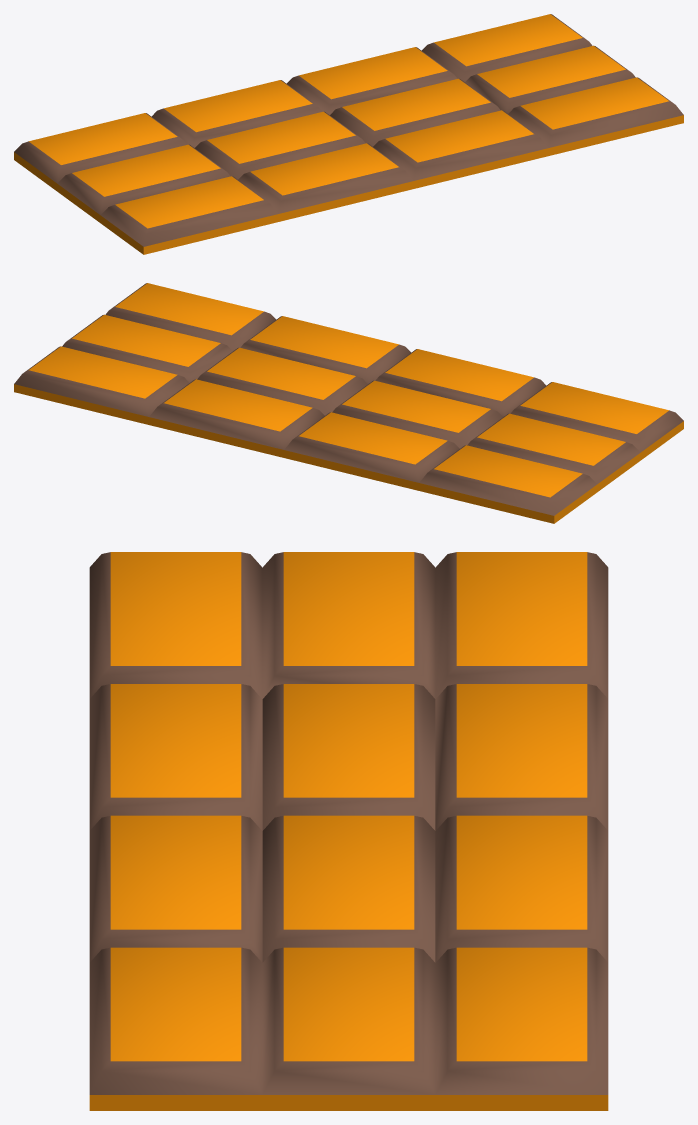
File: ChocolateBar.fbx
3 views of the same model, one above another, from view 1: azimuth 30°, elevation 25°; view 2: azimuth 150°, elevation 25°; view 3: azimuth 270°, elevation 25° (orthographic). The views are drawn at different scales.
Visible parts, largest first — view 1: ChocolateBar; view 2: ChocolateBar; view 3: ChocolateBar.
Part boxes in pixels (x1=…): ChocolateBar: x1=14, y1=14, x2=683, y2=254; ChocolateBar: x1=14, y1=283, x2=683, y2=523; ChocolateBar: x1=89, y1=552, x2=608, y2=1110.
Bounding box in the file's own units: 13.13 × 0.4706 × 5.46.
